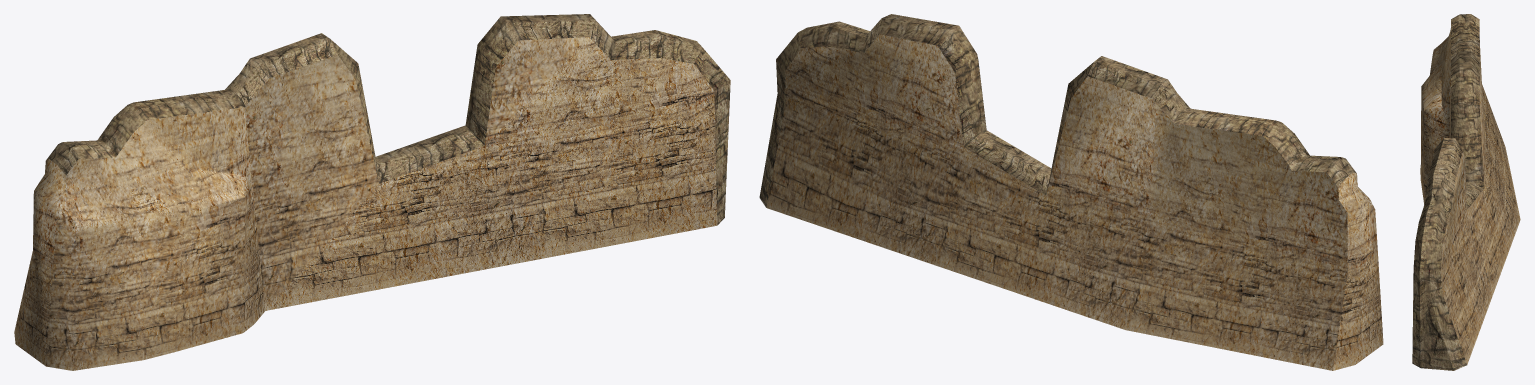
Rendered from Ruins_Wall_01.fbx.
3 views of the same model, side by side, from view 1: azimuth 30°, elevation 25°; view 2: azimuth 150°, elevation 25°; view 3: azimuth 270°, elevation 25° (orthographic). The views are drawn at different scales.
Parts seen in each view (by area): view 1: Ruins_Wall_01; view 2: Ruins_Wall_01; view 3: Ruins_Wall_01.
Part boxes in pixels (left/top/right/bottom): Ruins_Wall_01: left=14, top=14, right=730, bottom=370; Ruins_Wall_01: left=759, top=14, right=1383, bottom=370; Ruins_Wall_01: left=1412, top=14, right=1520, bottom=370.
Bounding box in the file's own units: 8.87 × 3.14 × 1.78.
2 materials, 2 textured.
